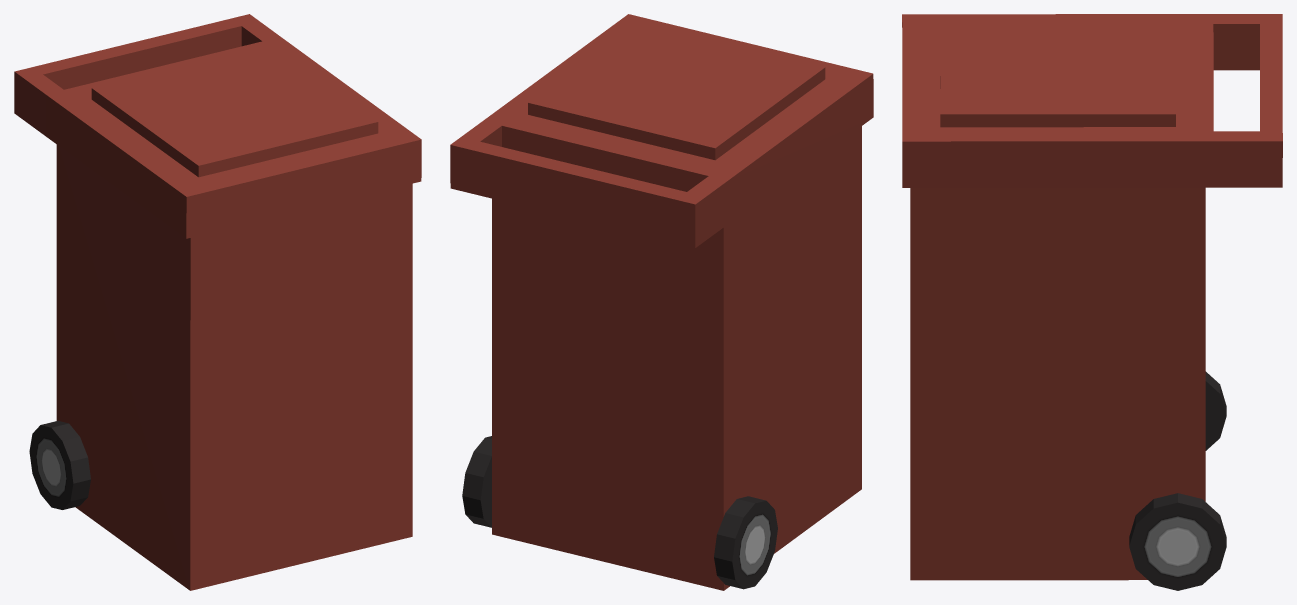
Rendered from SM_WheelieBin_Closed_02.fbx.
3 renders of one model, left to right at view 1: azimuth 30°, elevation 25°; view 2: azimuth 150°, elevation 25°; view 3: azimuth 270°, elevation 25°, orthographic. The views are drawn at different scales.
Parts seen in each view (by area): view 1: SM_WheelieBin_Closed_02; view 2: SM_WheelieBin_Closed_02; view 3: SM_WheelieBin_Closed_02.
Part boxes in pixels (box(x1,y1,x2,y2)): SM_WheelieBin_Closed_02: box(14, 14, 421, 590); SM_WheelieBin_Closed_02: box(450, 14, 873, 590); SM_WheelieBin_Closed_02: box(902, 14, 1282, 590).
Bounding box in the file's own units: 1.17 × 1.76 × 1.34.
